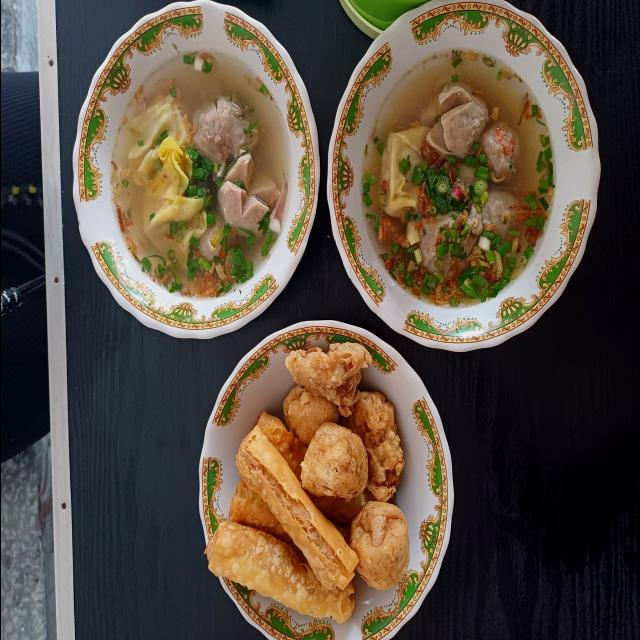bakso: (357, 45, 550, 307), (110, 50, 287, 298)
